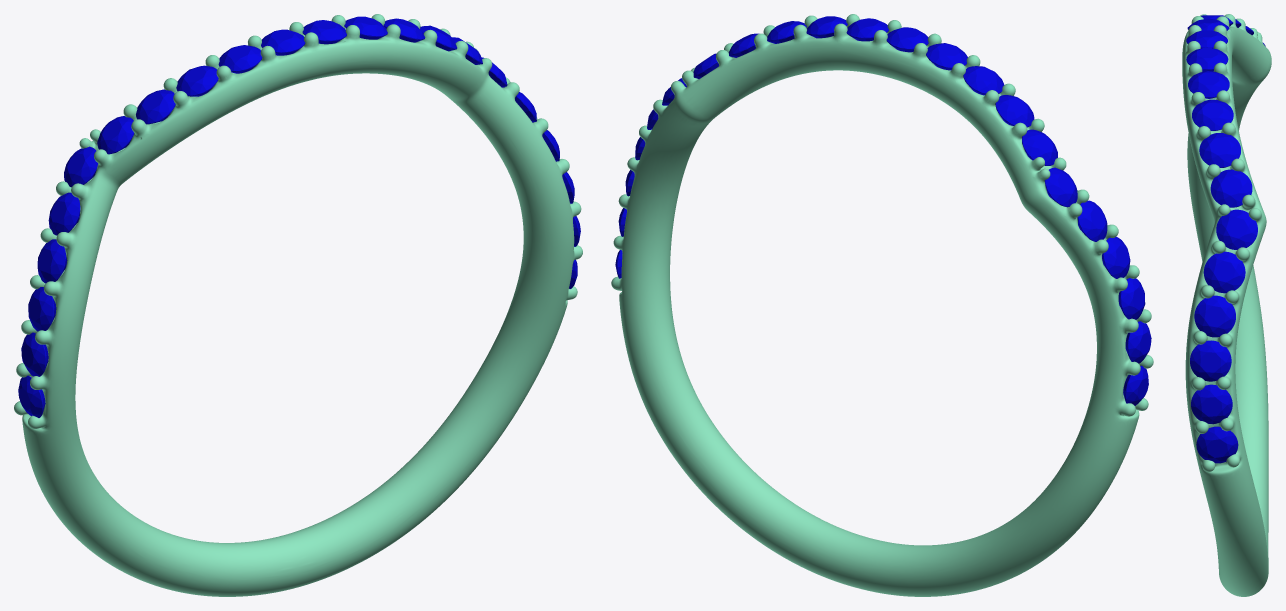
3 views of the same model, side by side, from view 1: azimuth 30°, elevation 25°; view 2: azimuth 150°, elevation 25°; view 3: azimuth 270°, elevation 25° (orthographic). The views are drawn at different scales.
Visible parts, largest first — view 1: Metal03, Diamond_Band.017, Diamond_Band.014, Diamond_Band.015, Diamond_Band.016, Diamond_Band.018, Diamond_Band.013, Diamond_Band.019, Diamond_Band.012, Diamond_Band.020, Diamond_Band.011, Diamond_Band.021 (+1 smaller); view 2: Metal03, Diamond_Band.016, Diamond_Band.017, Diamond_Band.014, Diamond_Band.015, Diamond_Band.018, Diamond_Band.013, Diamond_Band.019, Diamond_Band.012, Diamond_Band.020, Diamond_Band.011, Diamond_Band.021; view 3: Metal03, Diamond_Band.003, Diamond_Band.004, Diamond_Band.002, Diamond_Band.005, Diamond_Band.001, Diamond_Band.006, Diamond_Band, Diamond_Band.007, Diamond_Band.008, Diamond_Band.009, Diamond_Band.010 (+2 smaller).
Part boxes in pixels (x1,y1,x2,y2): Metal03: (14,14,582,596); Diamond_Band.017: (48,192,80,235); Diamond_Band.014: (136,89,175,124); Diamond_Band.015: (97,116,134,154); Diamond_Band.016: (64,146,98,187); Diamond_Band.018: (37,239,67,283); Diamond_Band.013: (176,65,218,96); Diamond_Band.019: (28,287,56,331); Diamond_Band.012: (218,45,262,73); Diamond_Band.020: (21,332,48,376); Diamond_Band.011: (261,29,305,55); Diamond_Band.021: (18,375,45,417); Metal03: (611,14,1153,596); Diamond_Band.016: (1044,167,1077,207); Diamond_Band.017: (1077,200,1107,241); Diamond_Band.014: (995,95,1034,127); Diamond_Band.015: (1022,129,1057,165); Diamond_Band.018: (1102,236,1130,278); Diamond_Band.013: (963,66,1004,95); Diamond_Band.019: (1118,278,1145,319); Diamond_Band.012: (926,43,967,70); Diamond_Band.020: (1125,321,1151,363); Diamond_Band.011: (886,27,928,52); Diamond_Band.021: (1123,365,1148,405); Metal03: (1182,14,1271,596); Diamond_Band.003: (1194,295,1235,337); Diamond_Band.004: (1203,251,1245,293); Diamond_Band.002: (1190,340,1231,381); Diamond_Band.005: (1216,209,1257,249); Diamond_Band.001: (1191,384,1232,424); Diamond_Band.006: (1210,169,1252,207); Diamond_Band: (1196,426,1238,463); Diamond_Band.007: (1199,133,1240,167); Diamond_Band.008: (1192,99,1233,130); Diamond_Band.009: (1188,71,1229,98); Diamond_Band.010: (1186,47,1228,71).
Size of the model in its own units: 21.03 by 20.95 by 3.22.
